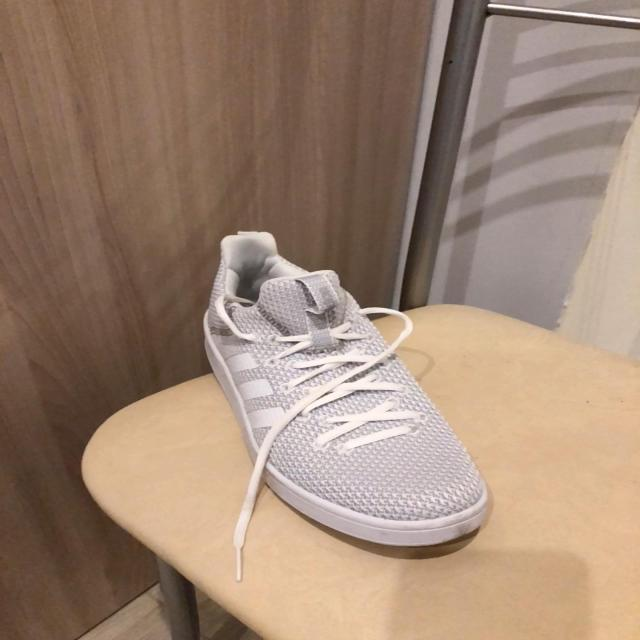shoe: (200, 232, 493, 554)
